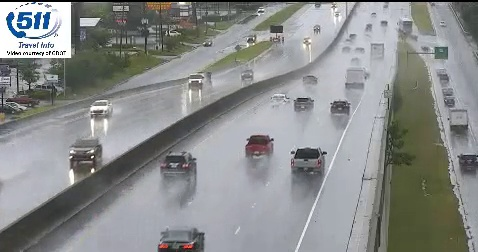car: (157, 228, 205, 252), (291, 147, 325, 172), (161, 153, 195, 175), (246, 135, 273, 156), (294, 96, 313, 110), (331, 100, 350, 114)
